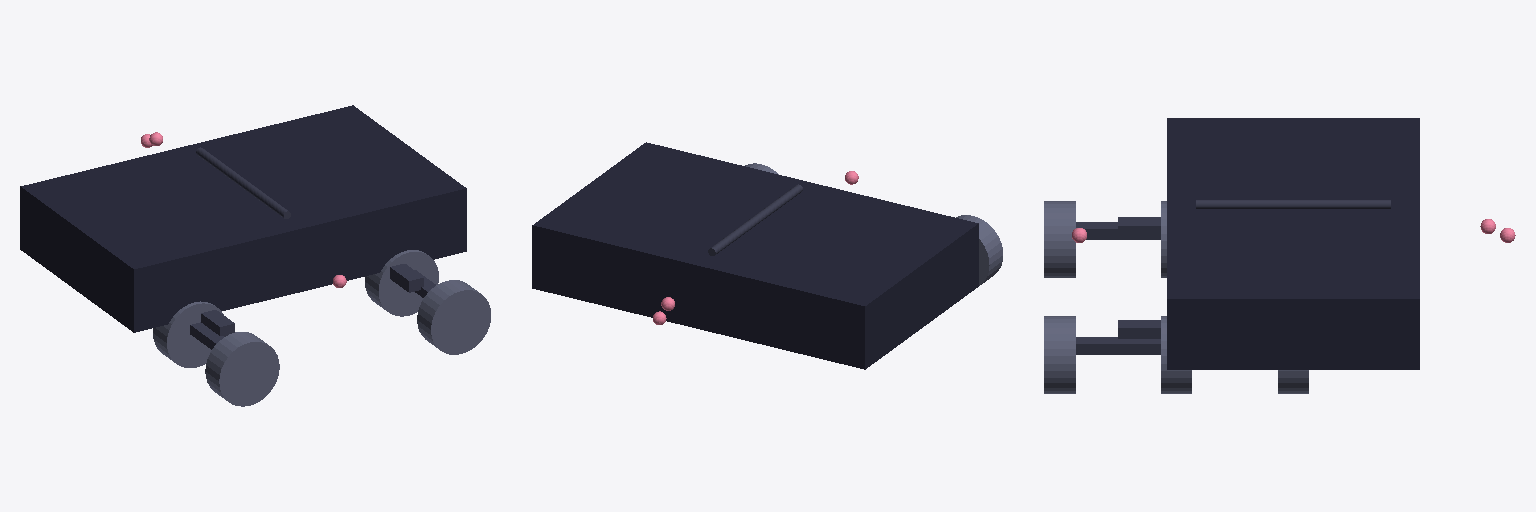
The robot description file, URDF, robot "mars_rover":
<?xml version="1.0"?>
<!--
  Mars Rover 0.4-Scale Prototype - Minimal URDF (non-xacro)
  ==========================================================
  Simplified version for quick testing without xacro installed.
  Use rover.urdf.xacro for the full parametric model.

  This file contains the same TF tree and geometry but with all
  xacro macros expanded and values hardcoded.

  Total mass: ~1.1 kg
  Colours: Catppuccin Mocha palette
-->
<robot name="mars_rover">

  <!-- ==================== MATERIALS ==================== -->
  <material name="surface0">
    <color rgba="0.192 0.196 0.267 1.0" />
  </material>
  <material name="overlay0">
    <color rgba="0.424 0.439 0.525 1.0" />
  </material>
  <material name="surface1">
    <color rgba="0.271 0.278 0.353 1.0" />
  </material>
  <material name="catppuccin_red">
    <color rgba="0.953 0.545 0.659 1.0" />
  </material>

  <!-- ==================== BASE LINK ==================== -->
  <link name="base_link">
    <visual>
      <origin xyz="0 0 0.005" rpy="0 0 0" />
      <geometry><sphere radius="0.005" /></geometry>
      <material name="catppuccin_red" />
    </visual>
    <inertial>
      <mass value="0.001" />
      <inertia ixx="1e-7" ixy="0" ixz="0" iyy="1e-7" iyz="0" izz="1e-7" />
    </inertial>
  </link>

  <!-- ==================== BASE FOOTPRINT ==================== -->
  <link name="base_footprint">
    <inertial>
      <mass value="0.001" />
      <inertia ixx="1e-7" ixy="0" ixz="0" iyy="1e-7" iyz="0" izz="1e-7" />
    </inertial>
  </link>
  <joint name="base_footprint_joint" type="fixed">
    <parent link="base_link" />
    <child link="base_footprint" />
    <origin xyz="0 0 0" rpy="0 0 0" />
  </joint>

  <!-- ==================== CHASSIS ==================== -->
  <!-- Body: 0.440 x 0.260 x 0.080 m, centre at Z=0.100 -->
  <link name="chassis">
    <visual>
      <geometry><box size="0.440 0.260 0.080" /></geometry>
      <material name="surface0" />
    </visual>
    <collision>
      <geometry><box size="0.440 0.260 0.080" /></geometry>
    </collision>
    <inertial>
      <mass value="0.45" />
      <inertia ixx="0.000303" ixy="0" ixz="0"
               iyy="0.002773" iyz="0"
               izz="0.002773" />
    </inertial>
  </link>
  <joint name="chassis_joint" type="fixed">
    <parent link="base_link" />
    <child link="chassis" />
    <origin xyz="0 0 0.100" rpy="0 0 0" />
  </joint>

  <!-- ==================== LEFT ROCKER ==================== -->
  <link name="left_rocker_link">
    <visual>
      <origin xyz="0 0.090 0" rpy="0 0 0" />
      <geometry><box size="0.020 0.180 0.015" /></geometry>
      <material name="surface1" />
    </visual>
    <collision>
      <origin xyz="0 0.090 0" rpy="0 0 0" />
      <geometry><box size="0.020 0.180 0.015" /></geometry>
    </collision>
    <inertial>
      <mass value="0.03" />
      <inertia ixx="0.0000081" ixy="0" ixz="0"
               iyy="0.0000003" iyz="0"
               izz="0.0000082" />
    </inertial>
  </link>
  <joint name="left_rocker_joint" type="revolute">
    <parent link="chassis" />
    <child link="left_rocker_link" />
    <origin xyz="-0.125 -0.180 -0.040" rpy="0 0 0" />
    <axis xyz="1 0 0" />
    <limit lower="-0.2618" upper="0.2618" effort="5.0" velocity="0.5" />
    <dynamics damping="0.1" friction="0.05" />
  </joint>

  <!-- ==================== LEFT FRONT STEERED WHEEL ==================== -->
  <link name="wheel_fl_steer_link">
    <visual>
      <geometry><cylinder radius="0.008" length="0.020" /></geometry>
      <material name="surface1" />
    </visual>
    <collision>
      <geometry><cylinder radius="0.008" length="0.020" /></geometry>
    </collision>
    <inertial>
      <mass value="0.005" />
      <inertia ixx="1.17e-7" ixy="0" ixz="0" iyy="1.17e-7" iyz="0" izz="1.6e-7" />
    </inertial>
  </link>
  <joint name="wheel_fl_steer_joint" type="revolute">
    <parent link="left_rocker_link" />
    <child link="wheel_fl_steer_link" />
    <origin xyz="-0.015 0.180 -0.020" rpy="0 0 0" />
    <axis xyz="0 0 1" />
    <limit lower="-0.6109" upper="0.6109" effort="2.0" velocity="1.5" />
    <dynamics damping="0.01" friction="0.005" />
  </joint>

  <link name="wheel_fl_link">
    <visual>
      <geometry><cylinder radius="0.040" length="0.032" /></geometry>
      <material name="overlay0" />
    </visual>
    <collision>
      <geometry><cylinder radius="0.040" length="0.032" /></geometry>
    </collision>
    <inertial>
      <mass value="0.04" />
      <inertia ixx="0.0000019" ixy="0" ixz="0"
               iyy="0.0000019" iyz="0"
               izz="0.0000032" />
    </inertial>
  </link>
  <joint name="wheel_fl_link_spin_joint" type="continuous">
    <parent link="wheel_fl_steer_link" />
    <child link="wheel_fl_link" />
    <origin xyz="0 0 0" rpy="1.5708 0 0" />
    <axis xyz="0 0 1" />
    <dynamics damping="0.01" friction="0.005" />
  </joint>

  <!-- ==================== LEFT BOGIE ==================== -->
  <link name="left_bogie_link">
    <visual>
      <geometry><box size="0.018 0.120 0.012" /></geometry>
      <material name="surface1" />
    </visual>
    <collision>
      <geometry><box size="0.018 0.120 0.012" /></geometry>
    </collision>
    <inertial>
      <mass value="0.02" />
      <inertia ixx="0.0000024" ixy="0" ixz="0"
               iyy="0.0000001" iyz="0"
               izz="0.0000025" />
    </inertial>
  </link>
  <joint name="left_bogie_joint" type="revolute">
    <parent link="left_rocker_link" />
    <child link="left_bogie_link" />
    <origin xyz="-0.015 0 -0.010" rpy="0 0 0" />
    <axis xyz="1 0 0" />
    <limit lower="-0.3491" upper="0.3491" effort="5.0" velocity="0.5" />
    <dynamics damping="0.1" friction="0.05" />
  </joint>

  <!-- Left middle wheel (unsteered) -->
  <link name="wheel_ml_link">
    <visual>
      <geometry><cylinder radius="0.040" length="0.032" /></geometry>
      <material name="overlay0" />
    </visual>
    <collision>
      <geometry><cylinder radius="0.040" length="0.032" /></geometry>
    </collision>
    <inertial>
      <mass value="0.04" />
      <inertia ixx="0.0000019" ixy="0" ixz="0"
               iyy="0.0000019" iyz="0"
               izz="0.0000032" />
    </inertial>
  </link>
  <joint name="wheel_ml_spin_joint" type="continuous">
    <parent link="left_bogie_link" />
    <child link="wheel_ml_link" />
    <origin xyz="0 0.060 -0.010" rpy="1.5708 0 0" />
    <axis xyz="0 0 1" />
    <dynamics damping="0.01" friction="0.005" />
  </joint>

  <!-- Left rear steered wheel -->
  <link name="wheel_rl_steer_link">
    <visual>
      <geometry><cylinder radius="0.008" length="0.020" /></geometry>
      <material name="surface1" />
    </visual>
    <collision>
      <geometry><cylinder radius="0.008" length="0.020" /></geometry>
    </collision>
    <inertial>
      <mass value="0.005" />
      <inertia ixx="1.17e-7" ixy="0" ixz="0" iyy="1.17e-7" iyz="0" izz="1.6e-7" />
    </inertial>
  </link>
  <joint name="wheel_rl_steer_joint" type="revolute">
    <parent link="left_bogie_link" />
    <child link="wheel_rl_steer_link" />
    <origin xyz="0 -0.060 -0.010" rpy="0 0 0" />
    <axis xyz="0 0 1" />
    <limit lower="-0.6109" upper="0.6109" effort="2.0" velocity="1.5" />
    <dynamics damping="0.01" friction="0.005" />
  </joint>

  <link name="wheel_rl_link">
    <visual>
      <geometry><cylinder radius="0.040" length="0.032" /></geometry>
      <material name="overlay0" />
    </visual>
    <collision>
      <geometry><cylinder radius="0.040" length="0.032" /></geometry>
    </collision>
    <inertial>
      <mass value="0.04" />
      <inertia ixx="0.0000019" ixy="0" ixz="0"
               iyy="0.0000019" iyz="0"
               izz="0.0000032" />
    </inertial>
  </link>
  <joint name="wheel_rl_link_spin_joint" type="continuous">
    <parent link="wheel_rl_steer_link" />
    <child link="wheel_rl_link" />
    <origin xyz="0 0 0" rpy="1.5708 0 0" />
    <axis xyz="0 0 1" />
    <dynamics damping="0.01" friction="0.005" />
  </joint>

  <!-- ==================== RIGHT ROCKER ==================== -->
  <link name="right_rocker_link">
    <visual>
      <origin xyz="0 0.090 0" rpy="0 0 0" />
      <geometry><box size="0.020 0.180 0.015" /></geometry>
      <material name="surface1" />
    </visual>
    <collision>
      <origin xyz="0 0.090 0" rpy="0 0 0" />
      <geometry><box size="0.020 0.180 0.015" /></geometry>
    </collision>
    <inertial>
      <mass value="0.03" />
      <inertia ixx="0.0000081" ixy="0" ixz="0"
               iyy="0.0000003" iyz="0"
               izz="0.0000082" />
    </inertial>
  </link>
  <joint name="right_rocker_joint" type="revolute">
    <parent link="chassis" />
    <child link="right_rocker_link" />
    <origin xyz="0.125 -0.180 -0.040" rpy="0 0 0" />
    <axis xyz="1 0 0" />
    <limit lower="-0.2618" upper="0.2618" effort="5.0" velocity="0.5" />
    <dynamics damping="0.1" friction="0.05" />
  </joint>

  <!-- ==================== RIGHT FRONT STEERED WHEEL ==================== -->
  <link name="wheel_fr_steer_link">
    <visual>
      <geometry><cylinder radius="0.008" length="0.020" /></geometry>
      <material name="surface1" />
    </visual>
    <collision>
      <geometry><cylinder radius="0.008" length="0.020" /></geometry>
    </collision>
    <inertial>
      <mass value="0.005" />
      <inertia ixx="1.17e-7" ixy="0" ixz="0" iyy="1.17e-7" iyz="0" izz="1.6e-7" />
    </inertial>
  </link>
  <joint name="wheel_fr_steer_joint" type="revolute">
    <parent link="right_rocker_link" />
    <child link="wheel_fr_steer_link" />
    <origin xyz="0.015 0.180 -0.020" rpy="0 0 0" />
    <axis xyz="0 0 1" />
    <limit lower="-0.6109" upper="0.6109" effort="2.0" velocity="1.5" />
    <dynamics damping="0.01" friction="0.005" />
  </joint>

  <link name="wheel_fr_link">
    <visual>
      <geometry><cylinder radius="0.040" length="0.032" /></geometry>
      <material name="overlay0" />
    </visual>
    <collision>
      <geometry><cylinder radius="0.040" length="0.032" /></geometry>
    </collision>
    <inertial>
      <mass value="0.04" />
      <inertia ixx="0.0000019" ixy="0" ixz="0"
               iyy="0.0000019" iyz="0"
               izz="0.0000032" />
    </inertial>
  </link>
  <joint name="wheel_fr_link_spin_joint" type="continuous">
    <parent link="wheel_fr_steer_link" />
    <child link="wheel_fr_link" />
    <origin xyz="0 0 0" rpy="1.5708 0 0" />
    <axis xyz="0 0 1" />
    <dynamics damping="0.01" friction="0.005" />
  </joint>

  <!-- ==================== RIGHT BOGIE ==================== -->
  <link name="right_bogie_link">
    <visual>
      <geometry><box size="0.018 0.120 0.012" /></geometry>
      <material name="surface1" />
    </visual>
    <collision>
      <geometry><box size="0.018 0.120 0.012" /></geometry>
    </collision>
    <inertial>
      <mass value="0.02" />
      <inertia ixx="0.0000024" ixy="0" ixz="0"
               iyy="0.0000001" iyz="0"
               izz="0.0000025" />
    </inertial>
  </link>
  <joint name="right_bogie_joint" type="revolute">
    <parent link="right_rocker_link" />
    <child link="right_bogie_link" />
    <origin xyz="0.015 0 -0.010" rpy="0 0 0" />
    <axis xyz="1 0 0" />
    <limit lower="-0.3491" upper="0.3491" effort="5.0" velocity="0.5" />
    <dynamics damping="0.1" friction="0.05" />
  </joint>

  <!-- Right middle wheel (unsteered) -->
  <link name="wheel_mr_link">
    <visual>
      <geometry><cylinder radius="0.040" length="0.032" /></geometry>
      <material name="overlay0" />
    </visual>
    <collision>
      <geometry><cylinder radius="0.040" length="0.032" /></geometry>
    </collision>
    <inertial>
      <mass value="0.04" />
      <inertia ixx="0.0000019" ixy="0" ixz="0"
               iyy="0.0000019" iyz="0"
               izz="0.0000032" />
    </inertial>
  </link>
  <joint name="wheel_mr_spin_joint" type="continuous">
    <parent link="right_bogie_link" />
    <child link="wheel_mr_link" />
    <origin xyz="0 0.060 -0.010" rpy="1.5708 0 0" />
    <axis xyz="0 0 1" />
    <dynamics damping="0.01" friction="0.005" />
  </joint>

  <!-- Right rear steered wheel -->
  <link name="wheel_rr_steer_link">
    <visual>
      <geometry><cylinder radius="0.008" length="0.020" /></geometry>
      <material name="surface1" />
    </visual>
    <collision>
      <geometry><cylinder radius="0.008" length="0.020" /></geometry>
    </collision>
    <inertial>
      <mass value="0.005" />
      <inertia ixx="1.17e-7" ixy="0" ixz="0" iyy="1.17e-7" iyz="0" izz="1.6e-7" />
    </inertial>
  </link>
  <joint name="wheel_rr_steer_joint" type="revolute">
    <parent link="right_bogie_link" />
    <child link="wheel_rr_steer_link" />
    <origin xyz="0 -0.060 -0.010" rpy="0 0 0" />
    <axis xyz="0 0 1" />
    <limit lower="-0.6109" upper="0.6109" effort="2.0" velocity="1.5" />
    <dynamics damping="0.01" friction="0.005" />
  </joint>

  <link name="wheel_rr_link">
    <visual>
      <geometry><cylinder radius="0.040" length="0.032" /></geometry>
      <material name="overlay0" />
    </visual>
    <collision>
      <geometry><cylinder radius="0.040" length="0.032" /></geometry>
    </collision>
    <inertial>
      <mass value="0.04" />
      <inertia ixx="0.0000019" ixy="0" ixz="0"
               iyy="0.0000019" iyz="0"
               izz="0.0000032" />
    </inertial>
  </link>
  <joint name="wheel_rr_link_spin_joint" type="continuous">
    <parent link="wheel_rr_steer_link" />
    <child link="wheel_rr_link" />
    <origin xyz="0 0 0" rpy="1.5708 0 0" />
    <axis xyz="0 0 1" />
    <dynamics damping="0.01" friction="0.005" />
  </joint>

  <!-- ==================== DIFFERENTIAL BAR ==================== -->
  <link name="differential_bar_link">
    <visual>
      <origin xyz="0 0 0" rpy="1.5708 0 0" />
      <geometry><cylinder radius="0.005" length="0.200" /></geometry>
      <material name="surface1" />
    </visual>
    <collision>
      <origin xyz="0 0 0" rpy="1.5708 0 0" />
      <geometry><cylinder radius="0.005" length="0.200" /></geometry>
    </collision>
    <inertial>
      <mass value="0.02" />
      <inertia ixx="0.0000067" ixy="0" ixz="0"
               iyy="0.0000067" iyz="0"
               izz="0.00000003" />
    </inertial>
  </link>
  <joint name="differential_bar_joint" type="fixed">
    <parent link="chassis" />
    <child link="differential_bar_link" />
    <origin xyz="0 0 0.045" rpy="0 0 0" />
  </joint>

  <!-- ==================== SENSOR LINKS (Phase 2) ==================== -->
  <!-- All sensors are empty links with small visual markers -->

  <!-- LiDAR: top of body, centre -->
  <link name="lidar_link">
    <visual><geometry><sphere radius="0.008" /></geometry><material name="catppuccin_red" /></visual>
    <inertial><mass value="0.001" /><inertia ixx="1e-7" ixy="0" ixz="0" iyy="1e-7" iyz="0" izz="1e-7" /></inertial>
  </link>
  <joint name="lidar_link_joint" type="fixed">
    <parent link="chassis" />
    <child link="lidar_link" />
    <origin xyz="0 0 -0.015" rpy="0 0 0" />
  </joint>

  <!-- IMU: centre of body -->
  <link name="imu_link">
    <visual><geometry><sphere radius="0.008" /></geometry><material name="catppuccin_red" /></visual>
    <inertial><mass value="0.001" /><inertia ixx="1e-7" ixy="0" ixz="0" iyy="1e-7" iyz="0" izz="1e-7" /></inertial>
  </link>
  <joint name="imu_link_joint" type="fixed">
    <parent link="chassis" />
    <child link="imu_link" />
    <origin xyz="0 0 -0.010" rpy="0 0 0" />
  </joint>

  <!-- GPS: top deck rear -->
  <link name="gps_link">
    <visual><geometry><sphere radius="0.008" /></geometry><material name="catppuccin_red" /></visual>
    <inertial><mass value="0.001" /><inertia ixx="1e-7" ixy="0" ixz="0" iyy="1e-7" iyz="0" izz="1e-7" /></inertial>
  </link>
  <joint name="gps_link_joint" type="fixed">
    <parent link="chassis" />
    <child link="gps_link" />
    <origin xyz="0 -0.100 -0.015" rpy="0 0 0" />
  </joint>

  <!-- Front camera -->
  <link name="camera_front">
    <visual><geometry><sphere radius="0.008" /></geometry><material name="catppuccin_red" /></visual>
    <inertial><mass value="0.001" /><inertia ixx="1e-7" ixy="0" ixz="0" iyy="1e-7" iyz="0" izz="1e-7" /></inertial>
  </link>
  <joint name="camera_front_joint" type="fixed">
    <parent link="chassis" />
    <child link="camera_front" />
    <origin xyz="0 0.220 0.010" rpy="0 0 0" />
  </joint>

  <!-- Rear camera -->
  <link name="camera_rear">
    <visual><geometry><sphere radius="0.008" /></geometry><material name="catppuccin_red" /></visual>
    <inertial><mass value="0.001" /><inertia ixx="1e-7" ixy="0" ixz="0" iyy="1e-7" iyz="0" izz="1e-7" /></inertial>
  </link>
  <joint name="camera_rear_joint" type="fixed">
    <parent link="chassis" />
    <child link="camera_rear" />
    <origin xyz="0 -0.220 0.010" rpy="0 0 3.14159" />
  </joint>

  <!-- Left camera -->
  <link name="camera_left">
    <visual><geometry><sphere radius="0.008" /></geometry><material name="catppuccin_red" /></visual>
    <inertial><mass value="0.001" /><inertia ixx="1e-7" ixy="0" ixz="0" iyy="1e-7" iyz="0" izz="1e-7" /></inertial>
  </link>
  <joint name="camera_left_joint" type="fixed">
    <parent link="chassis" />
    <child link="camera_left" />
    <origin xyz="-0.130 0 0.010" rpy="0 0 1.5708" />
  </joint>

  <!-- Right camera -->
  <link name="camera_right">
    <visual><geometry><sphere radius="0.008" /></geometry><material name="catppuccin_red" /></visual>
    <inertial><mass value="0.001" /><inertia ixx="1e-7" ixy="0" ixz="0" iyy="1e-7" iyz="0" izz="1e-7" /></inertial>
  </link>
  <joint name="camera_right_joint" type="fixed">
    <parent link="chassis" />
    <child link="camera_right" />
    <origin xyz="0.130 0 0.010" rpy="0 0 -1.5708" />
  </joint>

  <!-- Depth camera (OAK-D Lite) -->
  <link name="depth_camera">
    <visual><geometry><sphere radius="0.008" /></geometry><material name="catppuccin_red" /></visual>
    <inertial><mass value="0.001" /><inertia ixx="1e-7" ixy="0" ixz="0" iyy="1e-7" iyz="0" izz="1e-7" /></inertial>
  </link>
  <joint name="depth_camera_joint" type="fixed">
    <parent link="chassis" />
    <child link="depth_camera" />
    <origin xyz="0 0.200 0.020" rpy="0 0 0" />
  </joint>

</robot>

--- Render facts (derived) ---
3 views of the same robot in one strip: view 1: azimuth 30°, elevation 25°; view 2: azimuth 150°, elevation 25°; view 3: azimuth 270°, elevation 25° (orthographic).
Robot: mars_rover — 26 links, 25 joints (8 revolute, 6 continuous, 11 fixed); root link base_link; default pose: all joints at 0.
Visible links, largest first — view 1: chassis, wheel_rl_link, wheel_rr_link, wheel_mr_link, wheel_ml_link, differential_bar_link, right_rocker_link, left_rocker_link; view 2: chassis, wheel_rl_link, differential_bar_link; view 3: chassis, wheel_rr_link, wheel_rl_link, differential_bar_link, right_bogie_link, wheel_mr_link, left_rocker_link, right_rocker_link, wheel_fr_link, left_bogie_link.
Boxes of the visible links, x1=… form: chassis: x1=20, y1=105, x2=466, y2=332; wheel_rl_link: x1=205, y1=332, x2=279, y2=406; wheel_rr_link: x1=417, y1=280, x2=490, y2=354; wheel_mr_link: x1=365, y1=250, x2=438, y2=316; wheel_ml_link: x1=153, y1=301, x2=223, y2=367; differential_bar_link: x1=196, y1=147, x2=290, y2=218; right_rocker_link: x1=390, y1=264, x2=423, y2=292; left_rocker_link: x1=201, y1=310, x2=234, y2=336; chassis: x1=532, y1=142, x2=978, y2=369; wheel_rl_link: x1=956, y1=215, x2=1002, y2=285; differential_bar_link: x1=708, y1=184, x2=802, y2=255; chassis: x1=1167, y1=118, x2=1419, y2=369; wheel_rr_link: x1=1044, y1=316, x2=1075, y2=393; wheel_rl_link: x1=1044, y1=201, x2=1075, y2=277; differential_bar_link: x1=1196, y1=200, x2=1390, y2=208; right_bogie_link: x1=1076, y1=337, x2=1160, y2=354; wheel_mr_link: x1=1161, y1=316, x2=1191, y2=393; left_rocker_link: x1=1118, y1=217, x2=1160, y2=238; right_rocker_link: x1=1118, y1=320, x2=1160, y2=338; wheel_fr_link: x1=1278, y1=370, x2=1308, y2=393; left_bogie_link: x1=1076, y1=222, x2=1160, y2=239.
Size in the robot's own frame: 0.44 by 0.484 by 0.15 metres.
Geometry: primitives only (box / cylinder / sphere), no mesh files.
